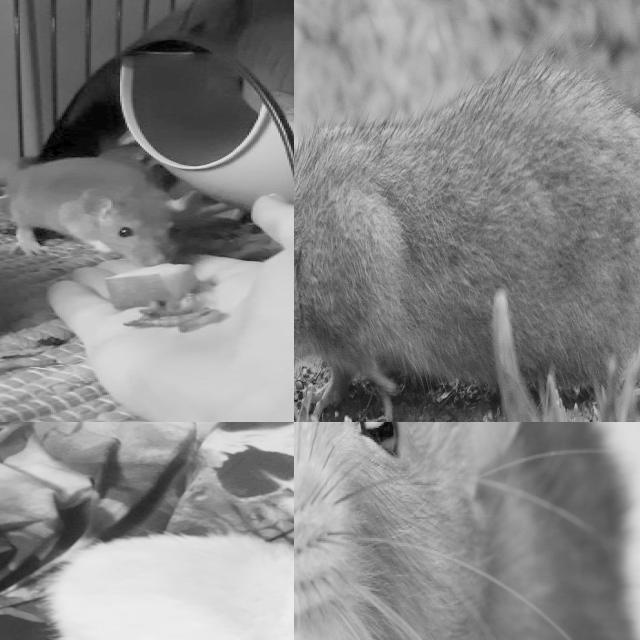rat: (294, 77, 640, 413), (294, 422, 640, 640), (43, 533, 294, 640), (0, 153, 197, 268)
